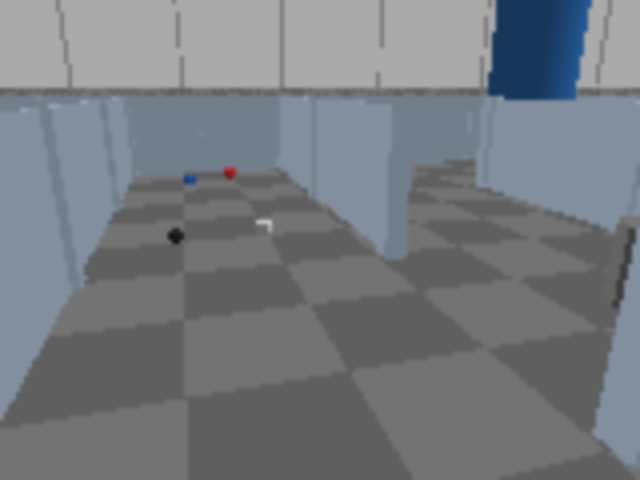puck: (167, 226, 185, 246), (254, 220, 273, 235)
